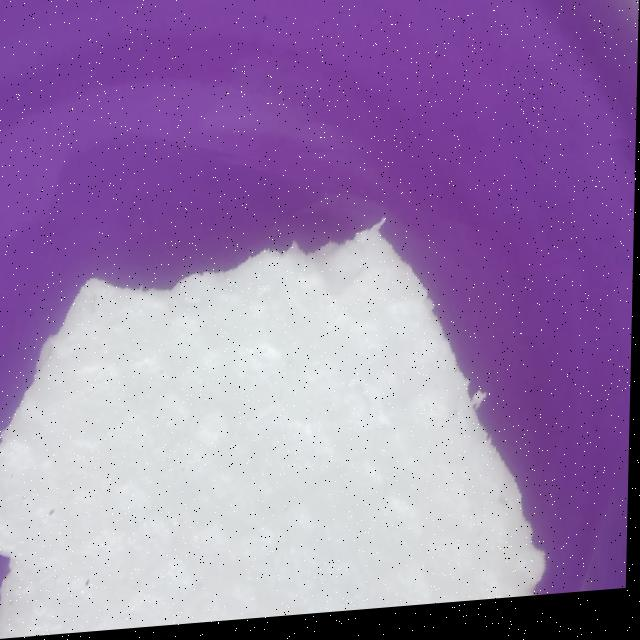thermocoal: (0, 126, 637, 640)
